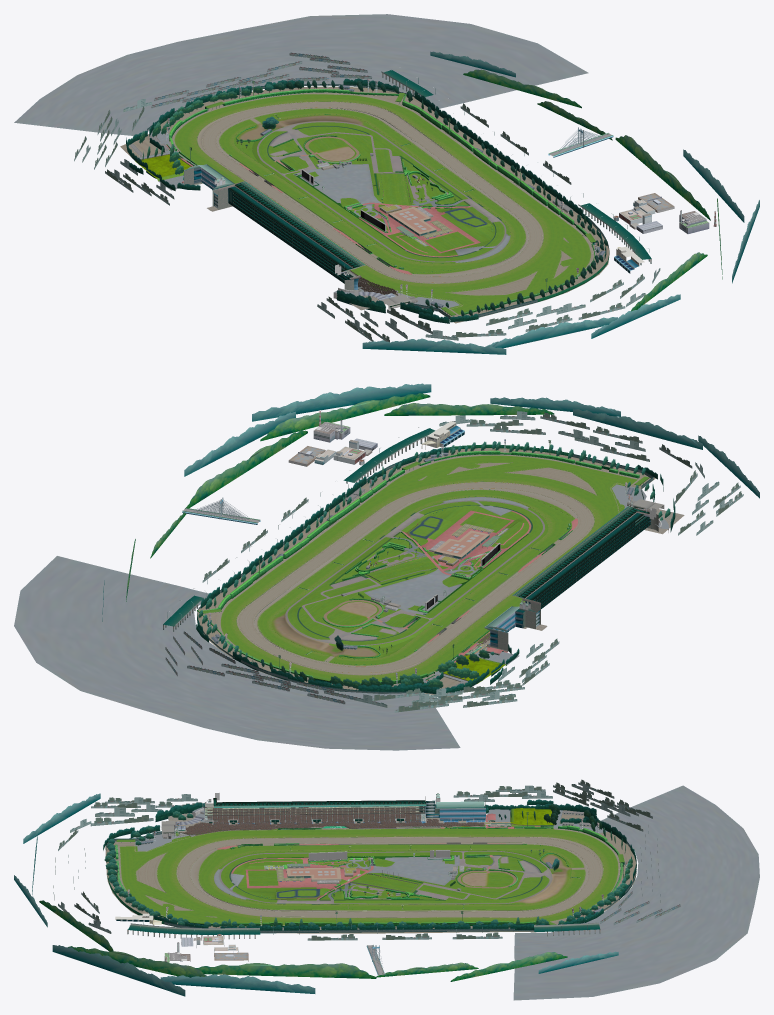
File: track.glb
3 renders of one model, top to bottom at view 1: azimuth 30°, elevation 25°; view 2: azimuth 150°, elevation 25°; view 3: azimuth 270°, elevation 25°, orthographic. The views are drawn at different scales.
Visible parts, largest first — view 1: uma_mesh1, uma_ground, uma_treemesh, uma_mesh2; view 2: uma_mesh1, uma_ground, uma_treemesh, uma_mesh2; view 3: uma_mesh1, uma_ground, uma_treemesh, uma_mobnpc, uma_mesh2, uma_fence2, uma_fence1.
Part boxes in pixels (x1,y1,x2,y2): uma_mesh1: (14,14,759,354); uma_ground: (120,86,609,323); uma_treemesh: (126,78,607,323); uma_mesh2: (147,84,609,319); uma_mesh1: (14,383,759,750); uma_ground: (197,448,684,696); uma_treemesh: (196,441,675,693); uma_mesh2: (197,444,653,694); uma_mesh1: (14,779,759,1000); uma_ground: (105,808,636,933); uma_treemesh: (103,799,636,930); uma_mobnpc: (182,806,484,834); uma_mesh2: (106,824,636,933); uma_fence2: (266,828,620,917); uma_fence1: (118,826,387,917).
Size of the model in its own units: 1072 by 69.01 by 1572.
10 materials, 10 textured.
